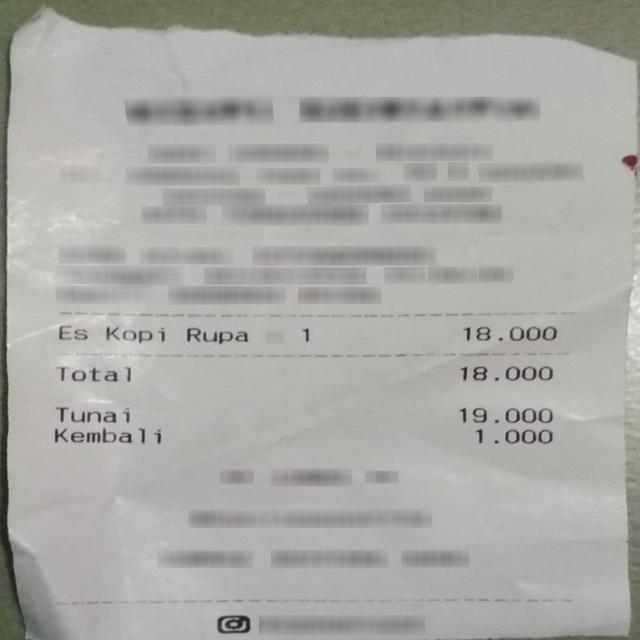text: (54, 428, 162, 444), (459, 407, 551, 423), (462, 326, 556, 341), (460, 366, 552, 380), (55, 407, 132, 423), (475, 428, 551, 444), (58, 367, 132, 382), (186, 328, 247, 344), (106, 327, 164, 342), (58, 325, 86, 339), (301, 328, 311, 342)
